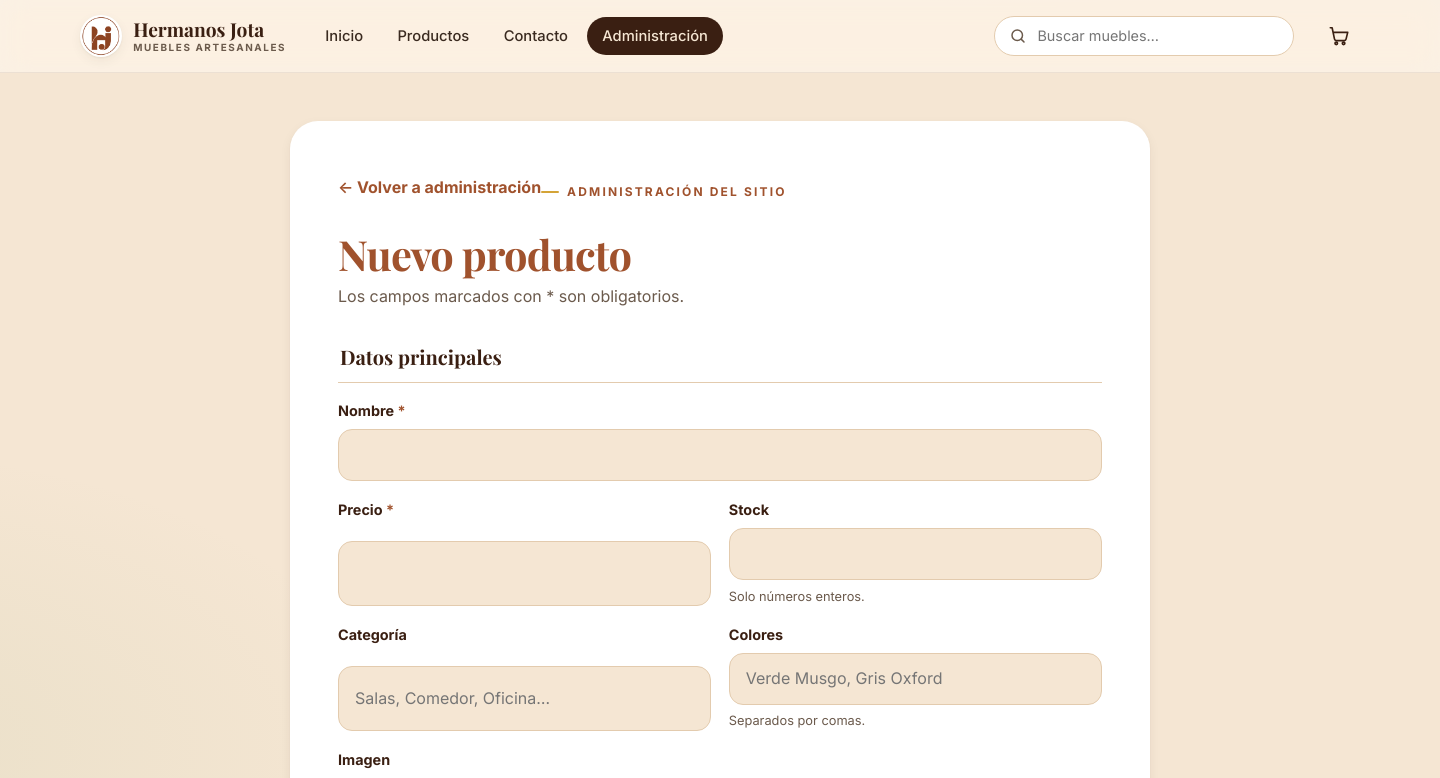
Scenario: si la API rechaza el alta, se muestra su mensaje de error
Type "Banco" into the field labelled "Nombre *" at (720, 455), box [338, 429, 1102, 481]
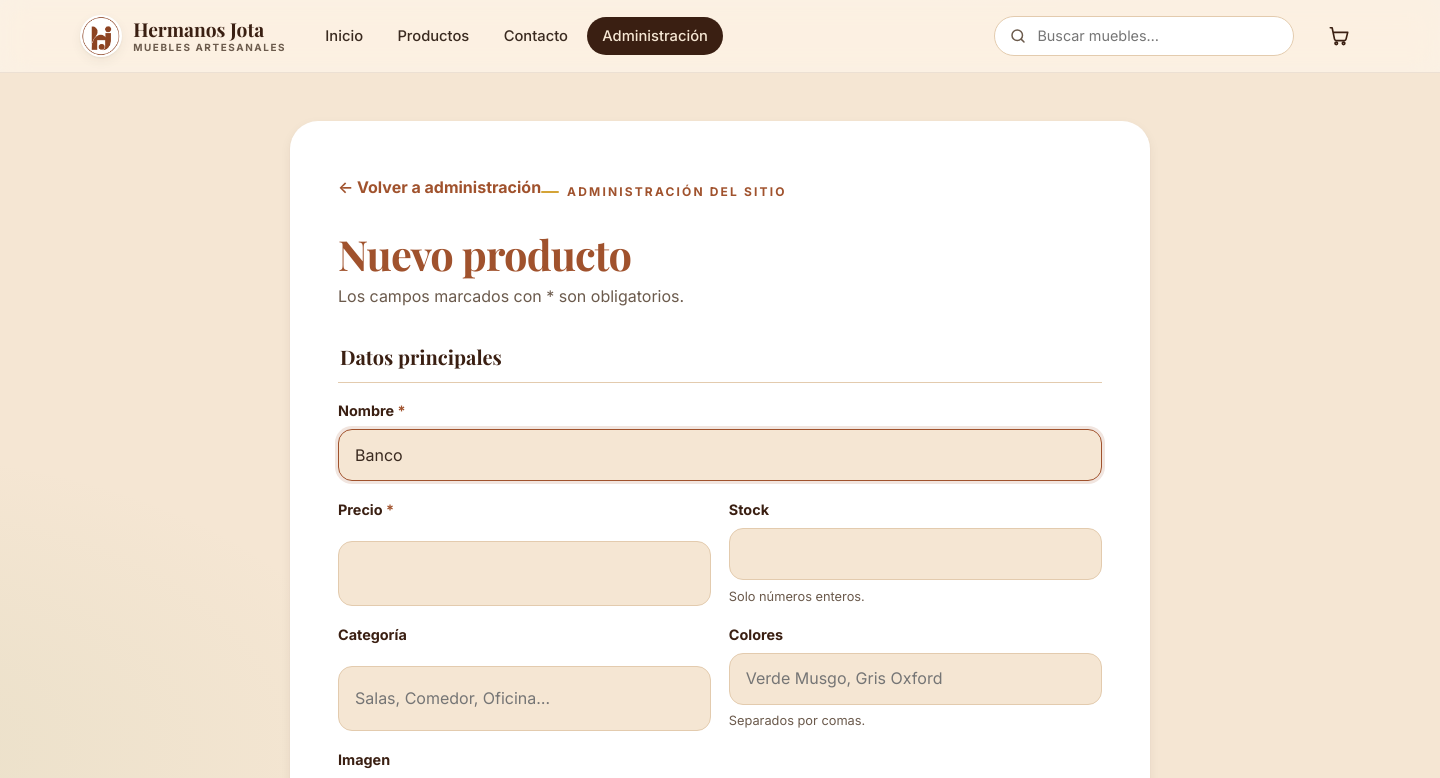
Type "10" into the number field labelled "Precio *" at (525, 574), box [338, 541, 711, 606]
(page scrolled)
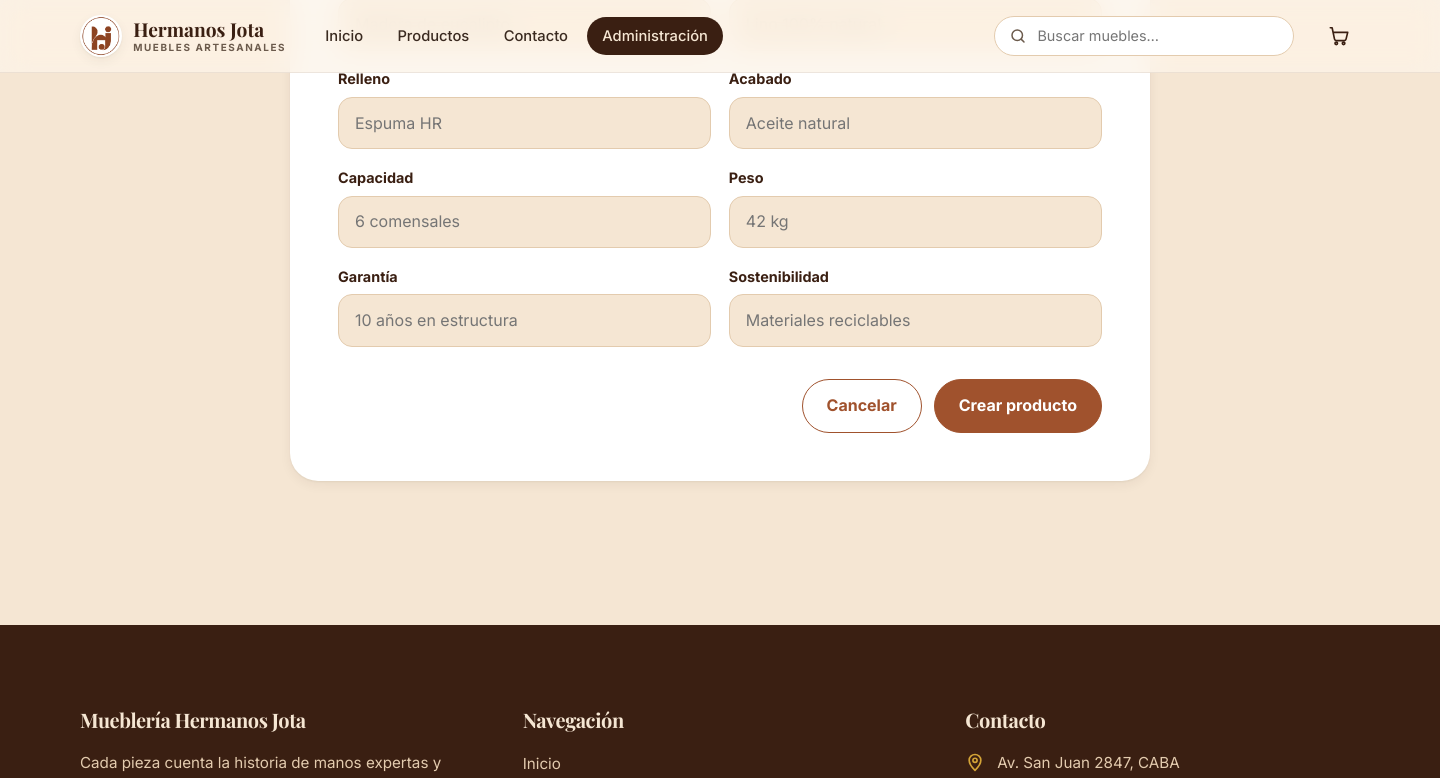
Click the button "Crear producto" at (1018, 406), box [934, 379, 1102, 433]
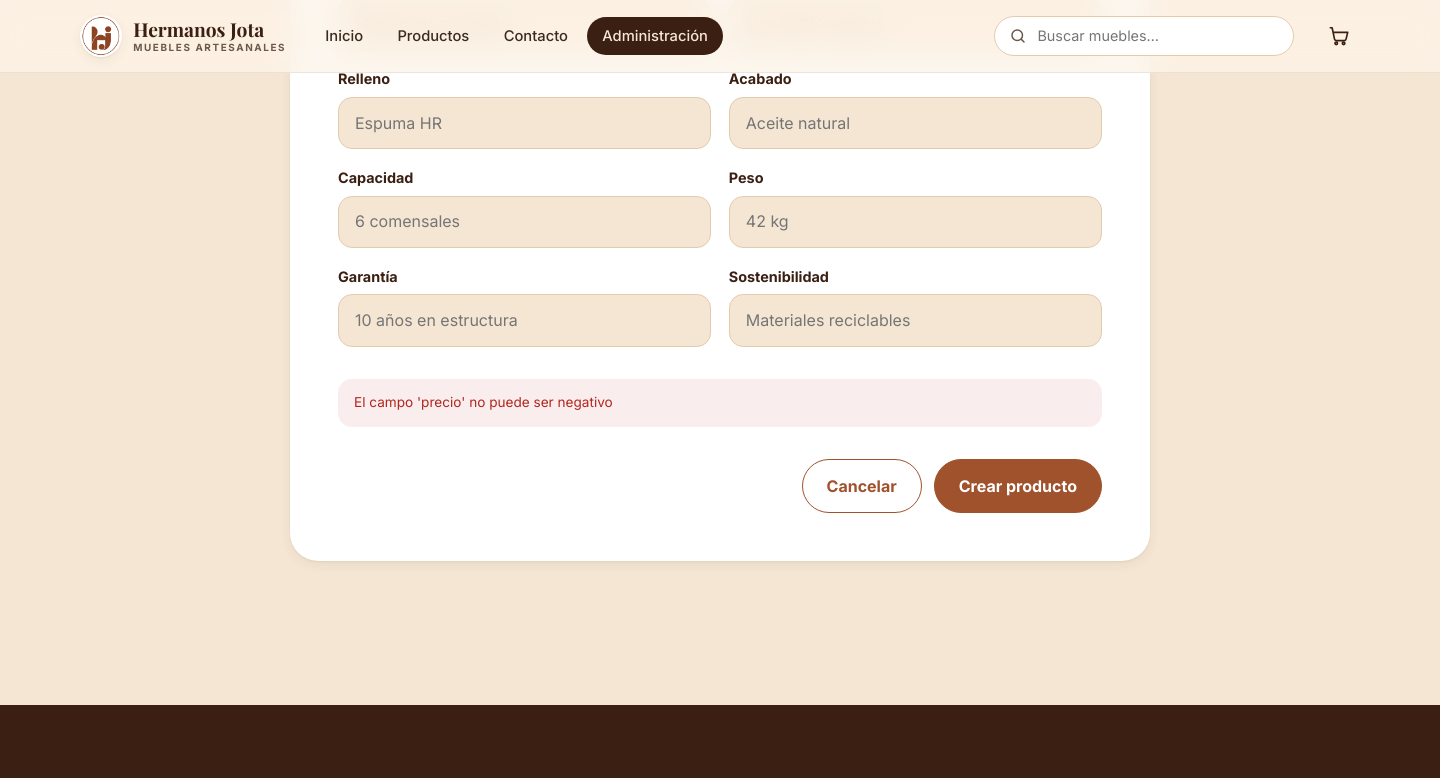
Check: the message reads "El campo 'precio' no puede ser negativo", box [354, 394, 613, 410]
